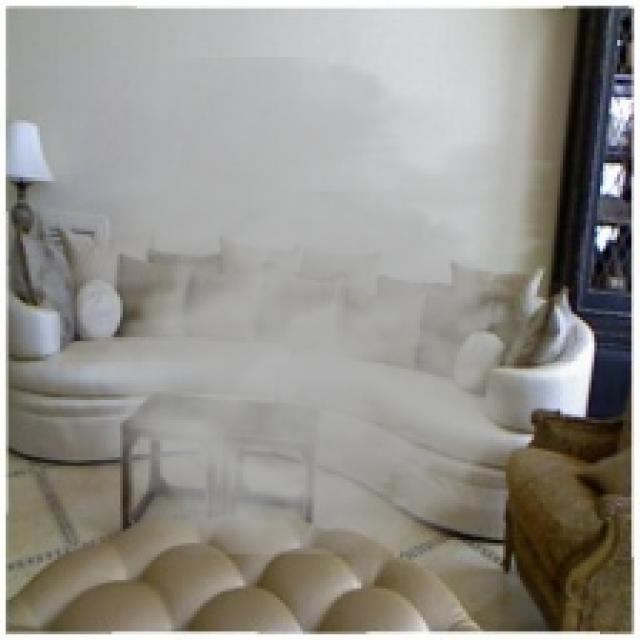Smoke: (42, 57, 608, 586)
